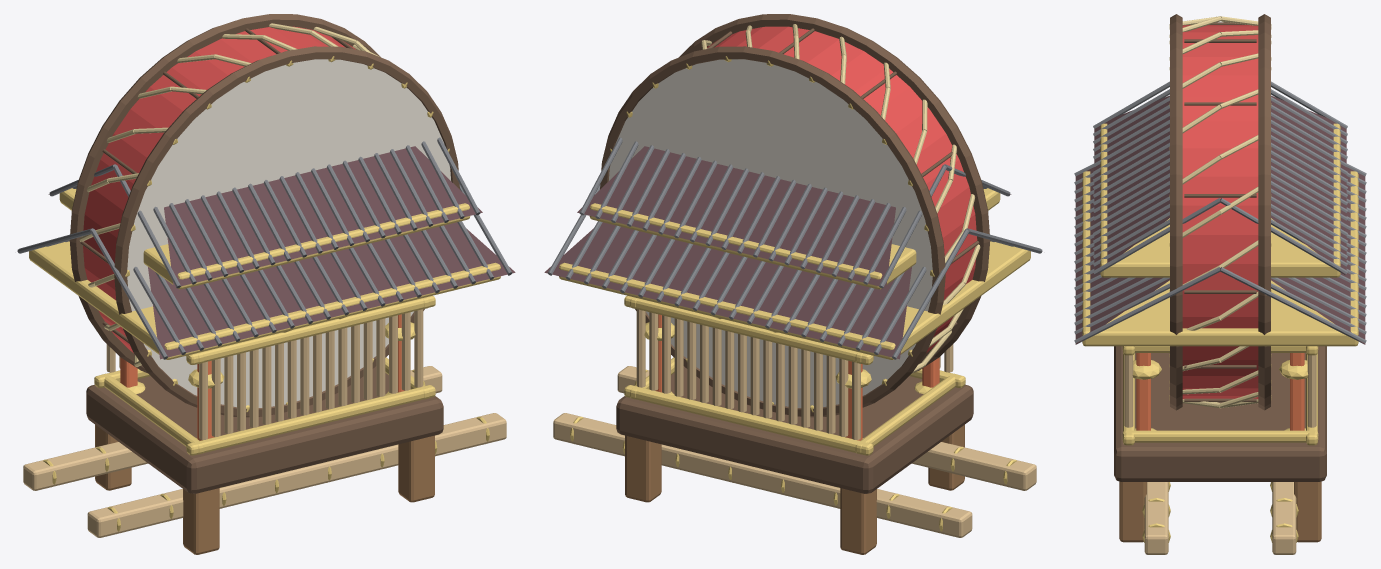
The model's file is matsuri_taikodai.glb.
3 views of the same model, side by side, from view 1: azimuth 30°, elevation 25°; view 2: azimuth 150°, elevation 25°; view 3: azimuth 270°, elevation 25° (orthographic).
Visible parts, largest first — view 1: Taikodai enormous drum taut drum skin, Heavy joined lacquered chassis, Festival shrine multi-tier roofing hipped roof.002, Festival shrine multi-tier roofing hipped roof, Taikodai enormous drum hardwood shell, Taikodai enormous drum leather head rim, Side carrying beam, Taikodai enormous drum leather head rim.001, Festival shrine multi-tier roofing underedge, Festival shrine multi-tier roofing underedge.001, Side carrying beam.001, Carved balustrade (+25 smaller); view 2: Taikodai enormous drum taut drum skin.001, Heavy joined lacquered chassis, Festival shrine multi-tier roofing hipped roof.003, Festival shrine multi-tier roofing hipped roof.001, Taikodai enormous drum hardwood shell, Taikodai enormous drum leather head rim.001, Side carrying beam.001, Taikodai enormous drum leather head rim, Festival shrine multi-tier roofing underedge, Festival shrine multi-tier roofing underedge.001, Side carrying beam, Carved balustrade.001 (+25 smaller); view 3: Taikodai enormous drum hardwood shell, Heavy joined lacquered chassis, Festival shrine multi-tier roofing underedge, Festival shrine multi-tier roofing underedge.001, Festival shrine multi-tier roofing hipped roof.002, Festival shrine multi-tier roofing hipped roof.003, Taikodai enormous drum leather head rim, Taikodai enormous drum leather head rim.001, Festival shrine multi-tier roofing hipped roof, Festival shrine multi-tier roofing hipped roof.001, Hand-carved transverse sill.001, Side carrying beam (+24 smaller).
Part boxes in pixels (bbox=[...]): Taikodai enormous drum taut drum skin: bbox=[127, 59, 450, 407]; Heavy joined lacquered chassis: bbox=[86, 366, 443, 493]; Festival shrine multi-tier roofing hipped roof.002: bbox=[164, 146, 482, 287]; Festival shrine multi-tier roofing hipped roof: bbox=[148, 222, 515, 359]; Taikodai enormous drum hardwood shell: bbox=[83, 26, 355, 352]; Taikodai enormous drum leather head rim: bbox=[114, 46, 459, 417]; Side carrying beam: bbox=[87, 413, 506, 537]; Taikodai enormous drum leather head rim.001: bbox=[69, 14, 380, 373]; Festival shrine multi-tier roofing underedge: bbox=[29, 241, 500, 359]; Festival shrine multi-tier roofing underedge.001: bbox=[59, 188, 470, 289]; Side carrying beam.001: bbox=[23, 366, 442, 490]; Carved balustrade: bbox=[186, 385, 435, 455]; Taikodai enormous drum taut drum skin.001: bbox=[609, 59, 932, 407]; Heavy joined lacquered chassis: bbox=[616, 366, 973, 493]; Festival shrine multi-tier roofing hipped roof.003: bbox=[577, 146, 895, 287]; Festival shrine multi-tier roofing hipped roof.001: bbox=[544, 222, 911, 359]; Taikodai enormous drum hardwood shell: bbox=[707, 26, 977, 352]; Taikodai enormous drum leather head rim.001: bbox=[600, 46, 945, 417]; Side carrying beam.001: bbox=[553, 413, 972, 537]; Taikodai enormous drum leather head rim: bbox=[679, 14, 990, 372]; Festival shrine multi-tier roofing underedge: bbox=[559, 241, 1030, 359]; Festival shrine multi-tier roofing underedge.001: bbox=[589, 188, 1000, 289]; Side carrying beam: bbox=[617, 366, 1036, 490]; Carved balustrade.001: bbox=[624, 385, 873, 455]; Taikodai enormous drum hardwood shell: bbox=[1182, 25, 1258, 399]; Heavy joined lacquered chassis: bbox=[1114, 346, 1326, 481]; Festival shrine multi-tier roofing underedge: bbox=[1082, 171, 1358, 346]; Festival shrine multi-tier roofing underedge.001: bbox=[1100, 123, 1340, 277]; Festival shrine multi-tier roofing hipped roof.002: bbox=[1094, 95, 1169, 275]; Festival shrine multi-tier roofing hipped roof.003: bbox=[1271, 95, 1346, 275]; Taikodai enormous drum leather head rim: bbox=[1170, 14, 1182, 410]; Taikodai enormous drum leather head rim.001: bbox=[1258, 14, 1270, 410]; Festival shrine multi-tier roofing hipped roof: bbox=[1075, 167, 1169, 344]; Festival shrine multi-tier roofing hipped roof.001: bbox=[1271, 167, 1365, 344]; Hand-carved transverse sill.001: bbox=[1122, 430, 1318, 442]; Side carrying beam: bbox=[1144, 482, 1168, 554].
Size of the model in its own units: 1.84 by 1.95 by 1.14.
